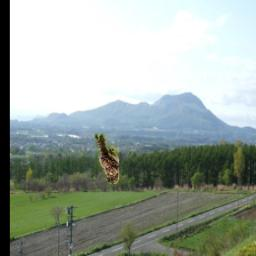Sparrow: (96, 134, 120, 184)
